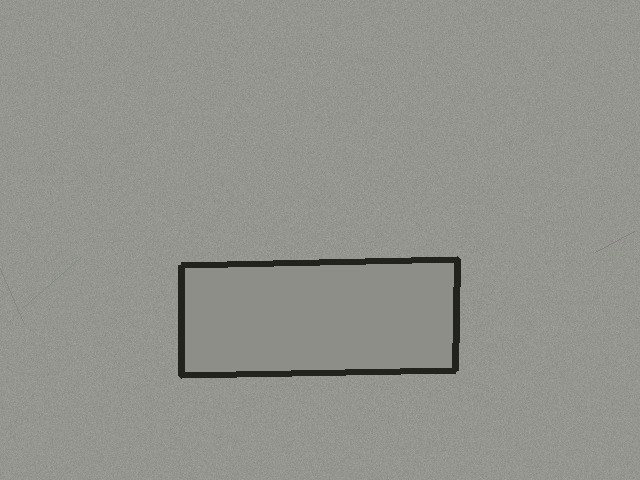parking_area: (181, 259, 457, 375)
